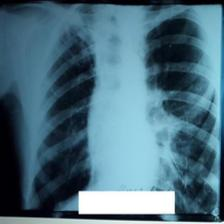tuberculosis: (28, 10, 219, 213)
